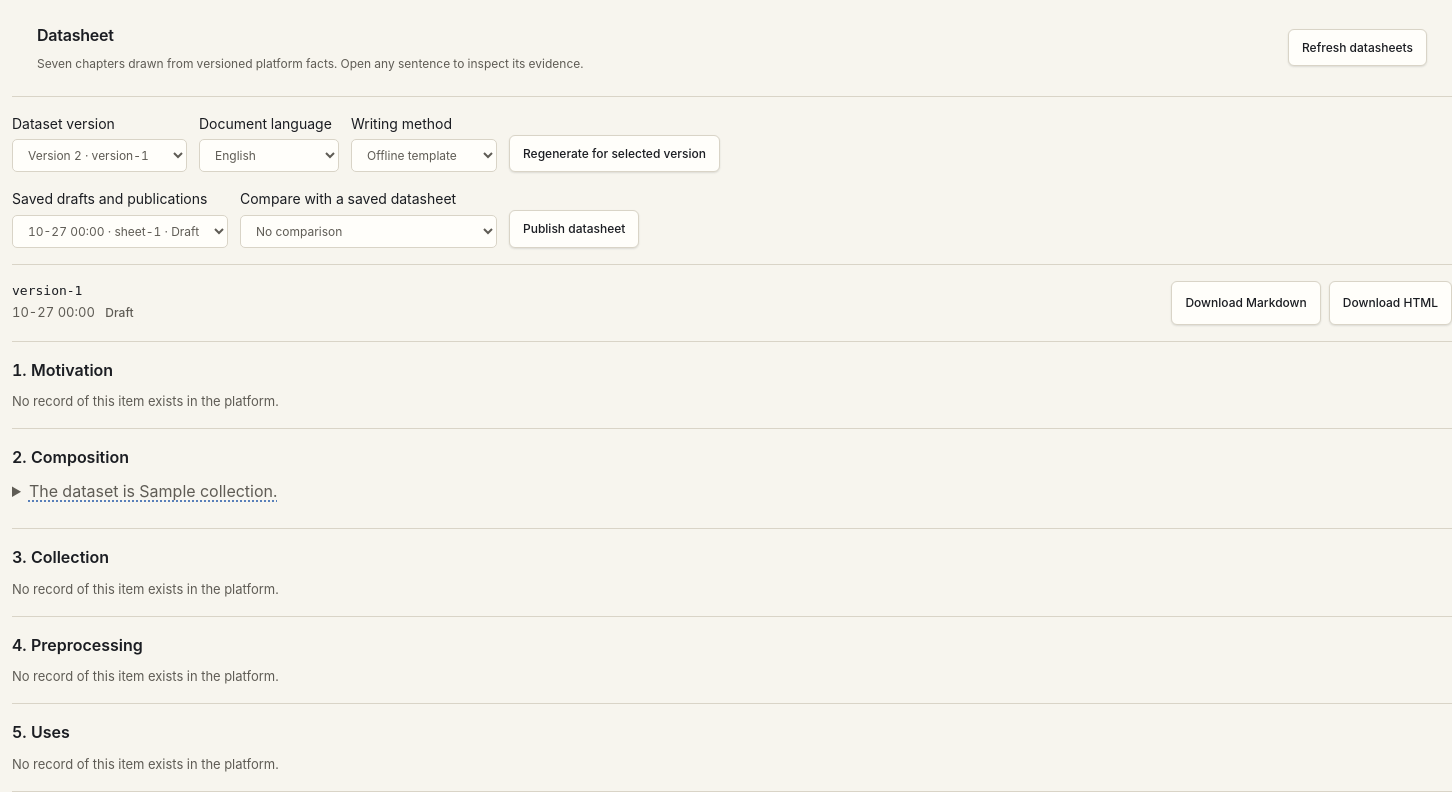
Test: selects history by version and compares saved documents with stale status
Expected: the link "Download Markdown" is shown, x1=1171 y1=281 x2=1321 y2=325
Select "version-old · 10-26 00:00 · sheet-ol" in the dropdown labelled "Compare with a saved datasheet" at point(368, 231), box x1=240 y1=215 x2=497 y2=248
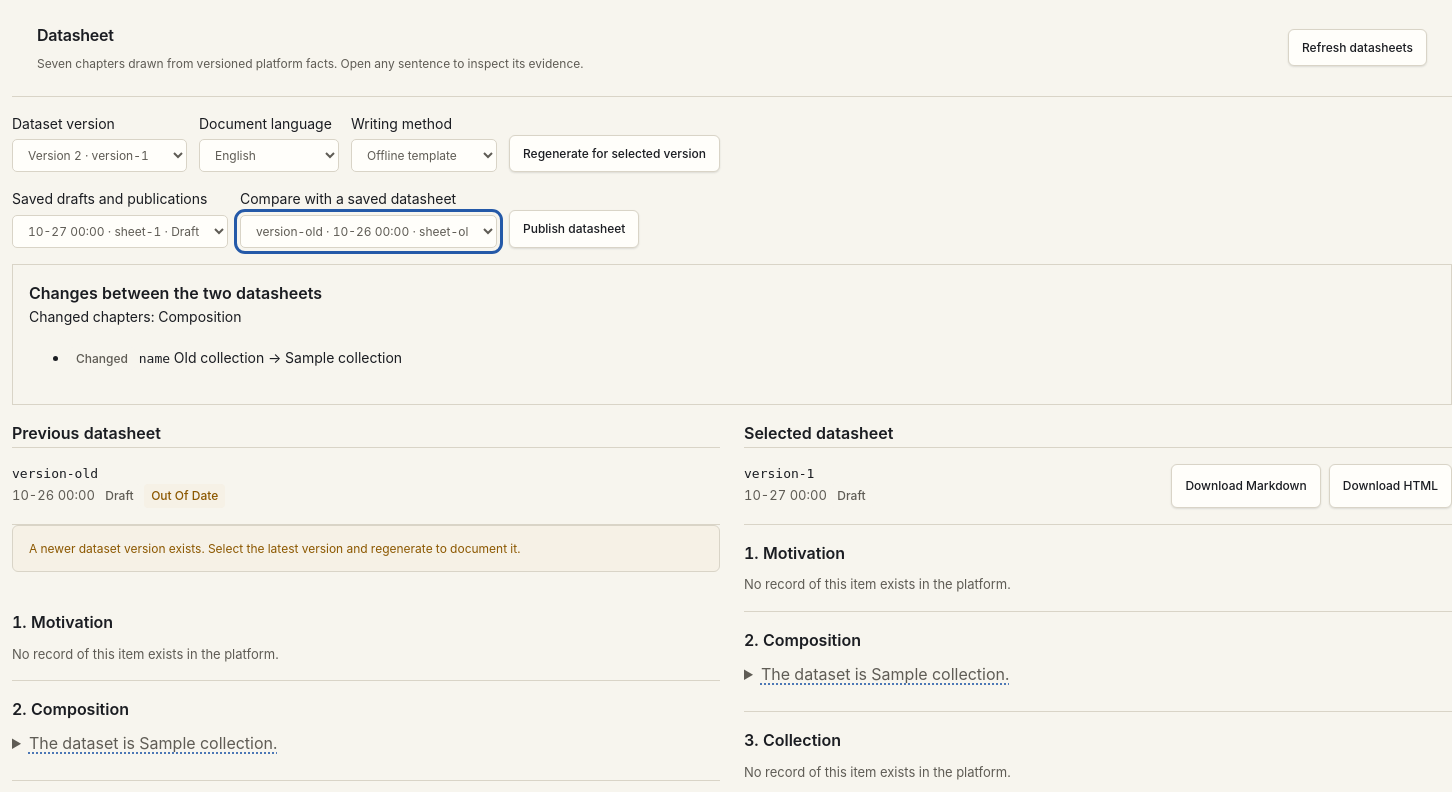
Result: the heading "Previous datasheet" is shown at x1=12 y1=423 x2=161 y2=443
Result: the text "Changed chapters: Composition" is shown at x1=29 y1=308 x2=242 y2=325
Result: the text "Old collection" is shown at x1=174 y1=348 x2=264 y2=366
Select "Version 1 · version-old" in the dropdown labelled "Dataset version" at point(100, 156), box x1=12 y1=139 x2=187 y2=172
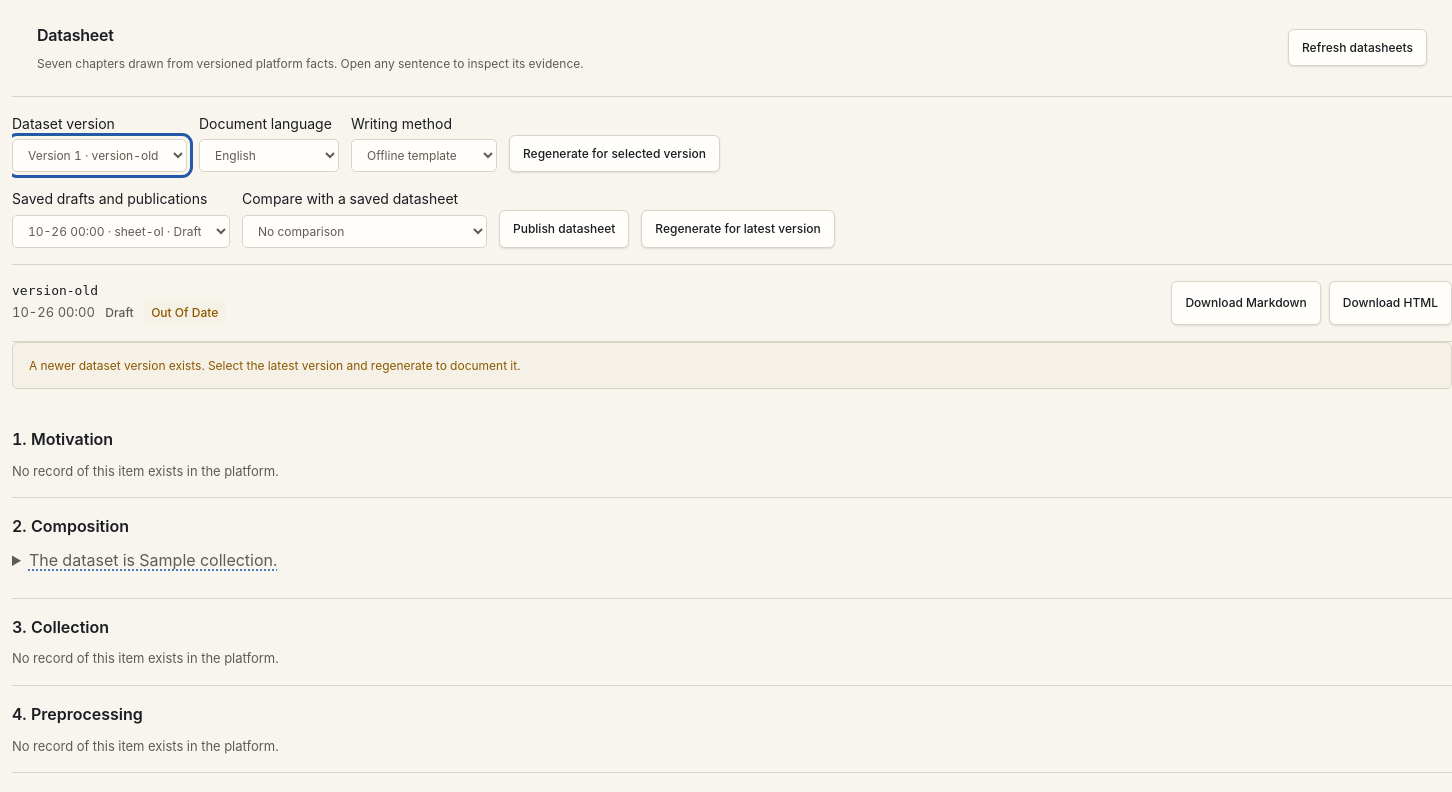
Expected: the button "Regenerate for selected version" is shown, x1=509 y1=135 x2=720 y2=172
Result: the heading "Previous datasheet" is gone
